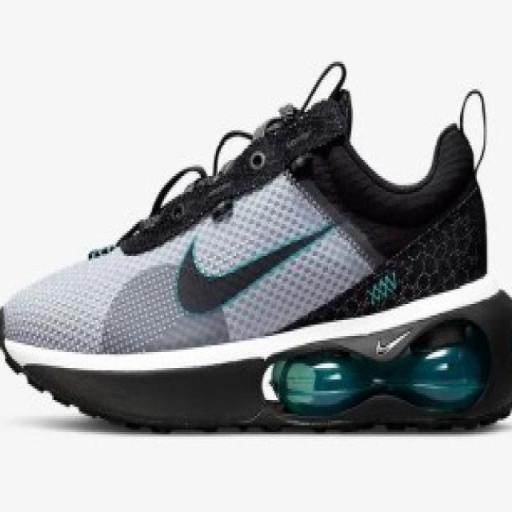Nike: (170, 212, 348, 327)
